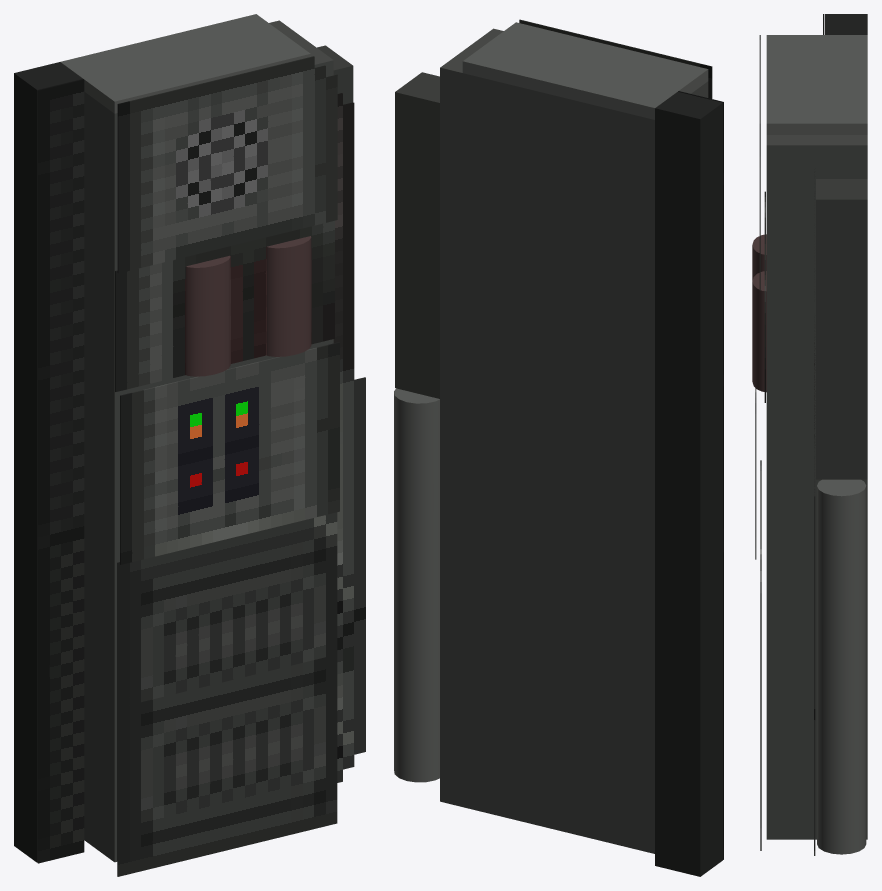
The model's file is CMU3DRMCMachinePropBig12Flipped.glb.
The picture shows the model from 3 angles, left to right: view 1: azimuth 30°, elevation 25°; view 2: azimuth 150°, elevation 25°; view 3: azimuth 270°, elevation 25°; orthographic projection. The views are drawn at different scales.
Parts seen in each view (by area): view 1: bottom grille, animated paired control bank, upper perforated vent, rear mounting spine artwork, upper lower-case grille, continuous tall cabinet, dark rear mounting spine, paired copper cartridge backing, source side-depth details, cast top shoulder, copper vertical cartridge (×2), upper side casing; view 2: continuous tall cabinet, dark rear mounting spine, exposed side conduit, upper side casing, cast top shoulder, upper perforated vent, rear mounting spine artwork; view 3: continuous tall cabinet, exposed side conduit, upper side casing, cast top shoulder, copper vertical cartridge (×2), source side-depth details, dark rear mounting spine, upper perforated vent, upper lower-case grille, paired copper cartridge backing, animated paired control bank, bottom grille.
Boxes of the visible parts, left/top/right/bottom form: bottom grille: left=117, top=654, right=337, bottom=876; animated paired control bank: left=120, top=342, right=339, bottom=564; upper perforated vent: left=117, top=56, right=337, bottom=273; rear mounting spine artwork: left=37, top=79, right=84, bottom=863; upper lower-case grille: left=117, top=512, right=337, bottom=707; continuous tall cabinet: left=84, top=20, right=333, bottom=862; dark rear mounting spine: left=14, top=62, right=82, bottom=862; paired copper cartridge backing: left=115, top=220, right=334, bottom=391; source side-depth details: left=333, top=93, right=365, bottom=782; cast top shoulder: left=60, top=14, right=310, bottom=113; copper vertical cartridge (×2): left=186, top=236, right=311, bottom=376; upper side casing: left=317, top=45, right=353, bottom=104; continuous tall cabinet: left=440, top=28, right=708, bottom=853; dark rear mounting spine: left=655, top=92, right=722, bottom=876; exposed side conduit: left=394, top=388, right=439, bottom=782; upper side casing: left=395, top=72, right=439, bottom=398; cast top shoulder: left=462, top=22, right=708, bottom=119; upper perforated vent: left=519, top=19, right=712, bottom=98; rear mounting spine artwork: left=678, top=91, right=723, bottom=859; continuous tall cabinet: left=766, top=135, right=867, bottom=839; exposed side conduit: left=817, top=479, right=866, bottom=854; upper side casing: left=816, top=179, right=867, bottom=479; cast top shoulder: left=766, top=35, right=867, bottom=134; copper vertical cartridge (×2): left=752, top=234, right=766, bottom=392; source side-depth details: left=814, top=172, right=815, bottom=855; dark rear mounting spine: left=824, top=14, right=867, bottom=34; upper perforated vent: left=759, top=35, right=760, bottom=290; upper lower-case grille: left=760, top=460, right=761, bottom=693; paired copper cartridge backing: left=764, top=191, right=765, bottom=402; animated paired control bank: left=755, top=388, right=756, bottom=559; bottom grille: left=760, top=694, right=761, bottom=850.
Size of what is drawn, in the model's own units: 0.875 by 2 by 0.291.
Materials: 12 (7 with a texture image).
